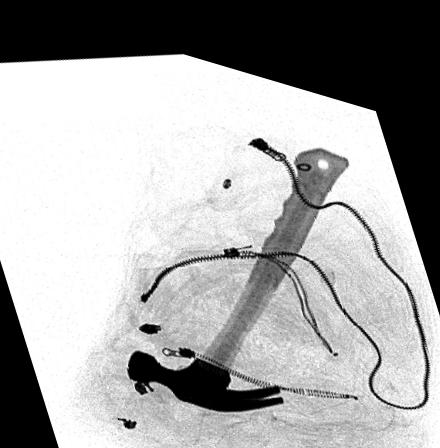Hammer: (126, 128, 349, 399)
